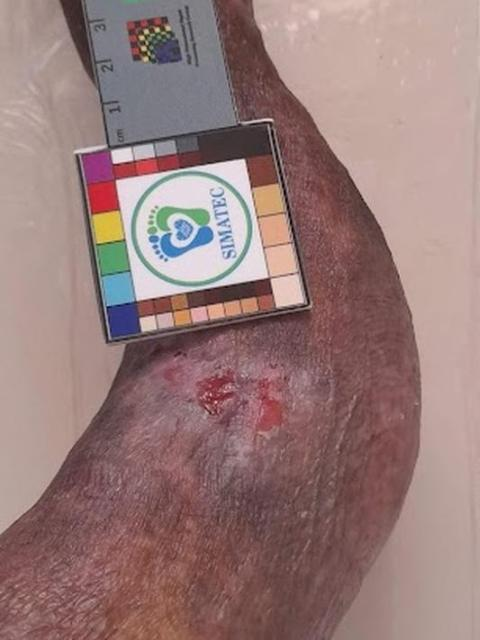wound: (253, 361, 295, 439), (195, 363, 250, 422)
